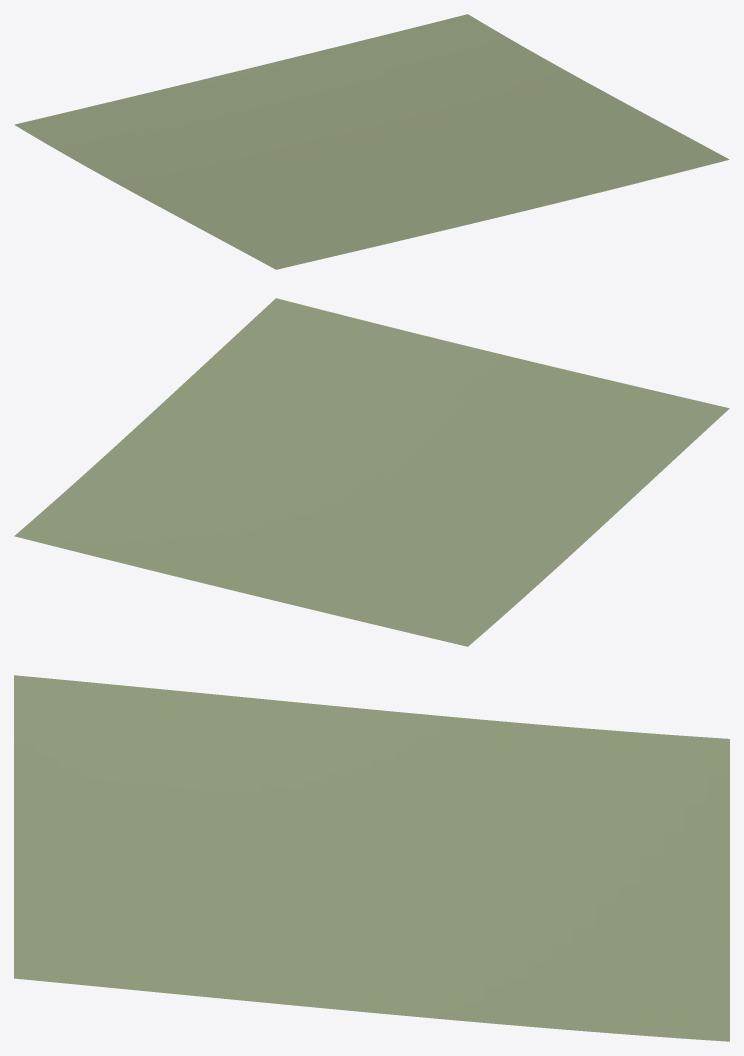
Rendered from desert-6-26.glb.
3 renders of one model, top to bottom at view 1: azimuth 30°, elevation 25°; view 2: azimuth 150°, elevation 25°; view 3: azimuth 270°, elevation 25°, orthographic. The views are drawn at different scales.
Visible parts, largest first — view 1: desert-6-26; view 2: desert-6-26; view 3: desert-6-26.
Boxes of the visible parts, x1,y1,x2,y2 form: desert-6-26: (14,14,729,269); desert-6-26: (14,298,729,646); desert-6-26: (14,675,729,1041).
Size of the model in its own units: 512 by 51.42 by 512.
